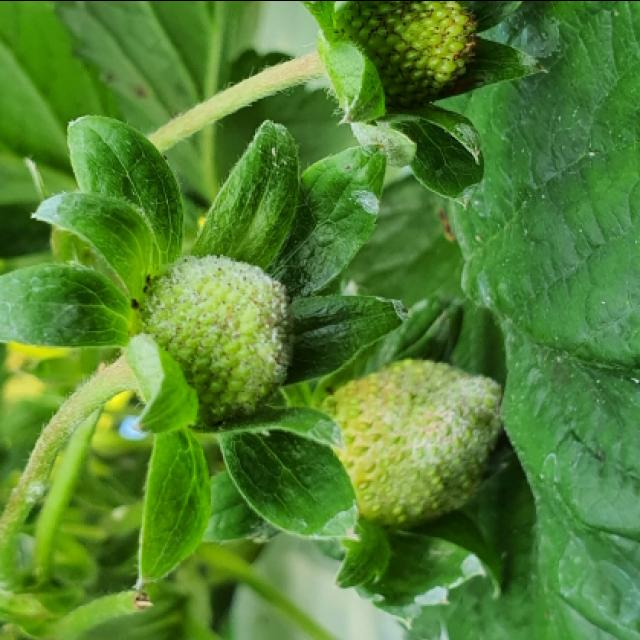Powdery Mildew Fruit: (130, 251, 291, 427), (393, 354, 504, 506)
